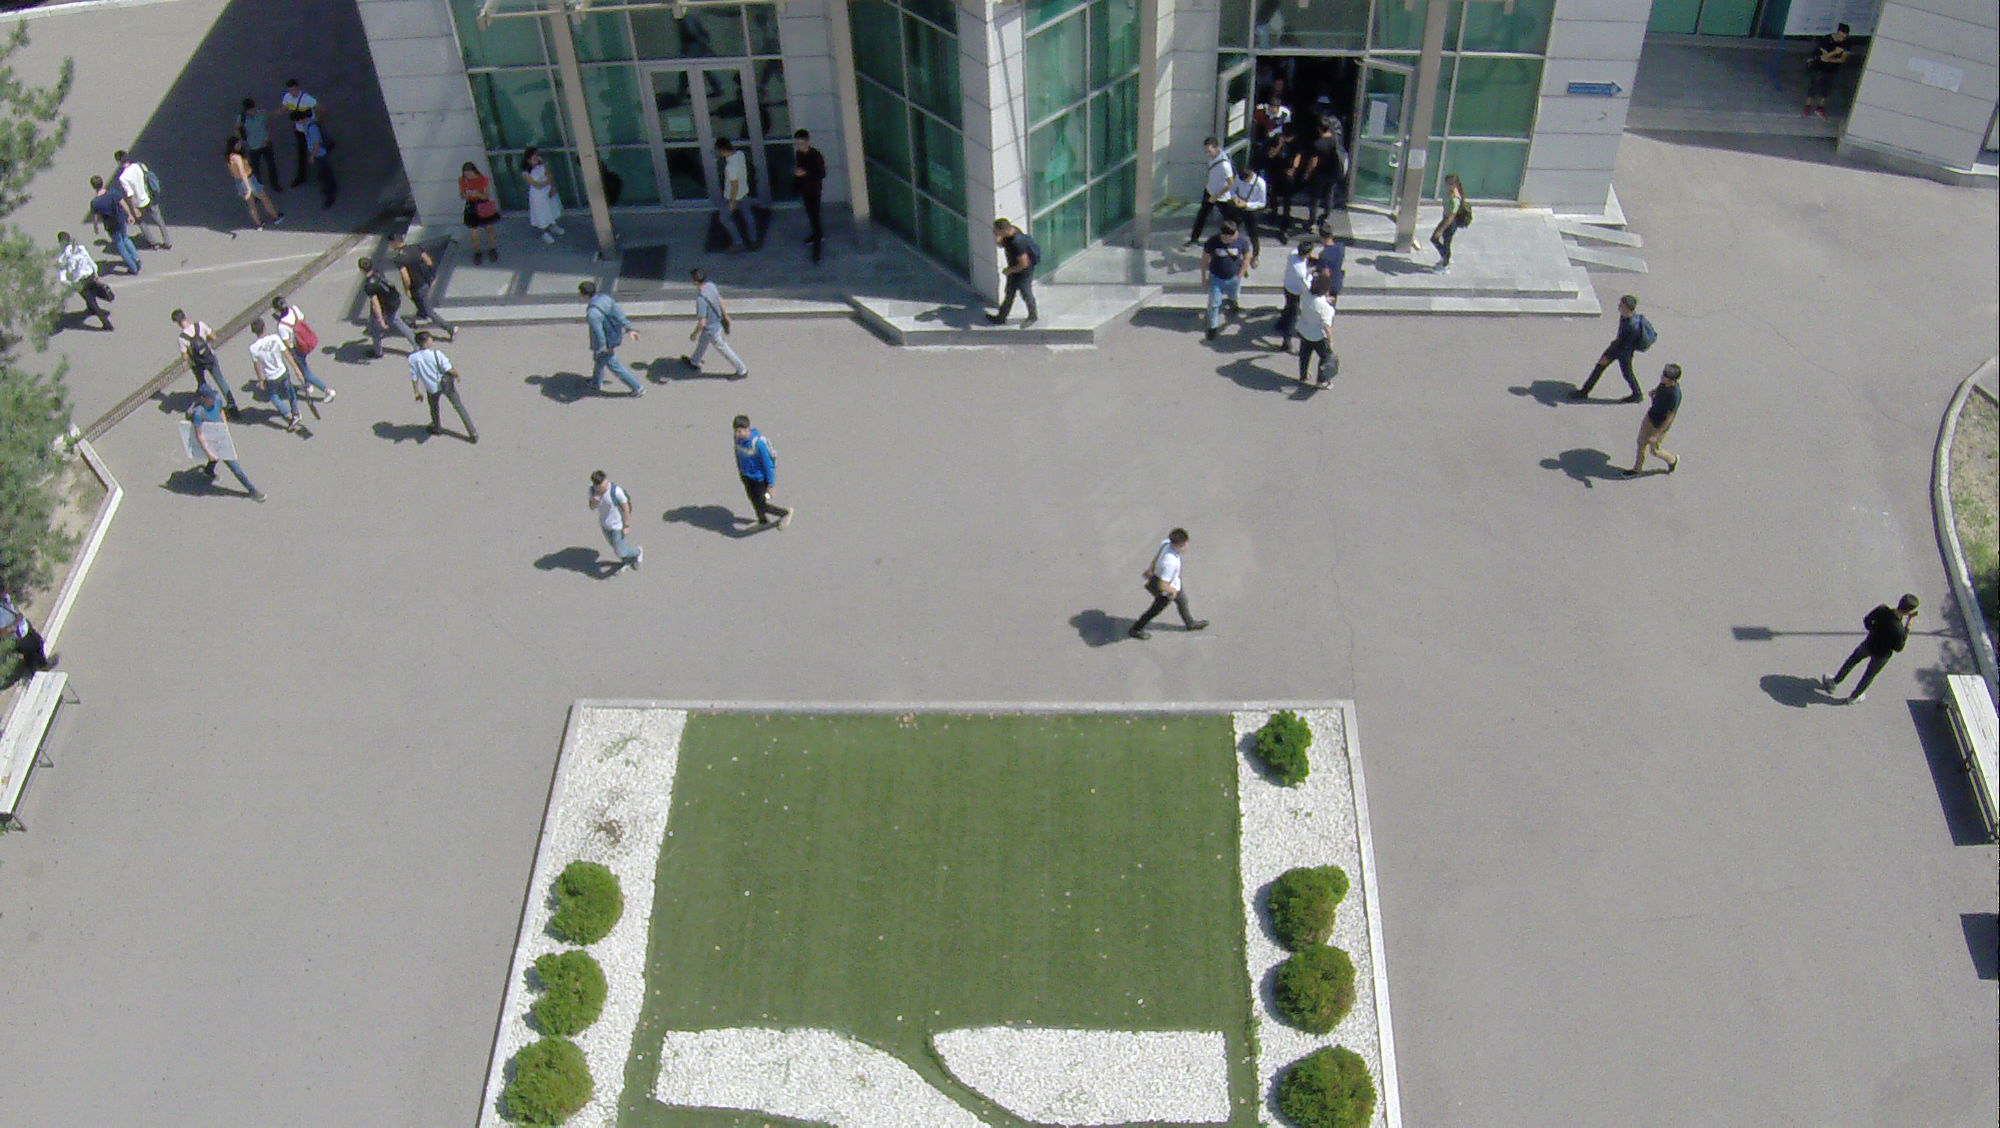person: (166, 384, 267, 500), (1824, 591, 1926, 705), (1123, 524, 1211, 648), (569, 278, 649, 403), (239, 319, 319, 441), (1572, 288, 1654, 402), (731, 410, 800, 545), (392, 226, 464, 351), (676, 264, 752, 383), (405, 331, 481, 447), (1618, 360, 1687, 486), (978, 211, 1040, 340), (353, 258, 424, 368), (272, 296, 342, 406), (1195, 218, 1256, 346), (585, 466, 647, 584), (788, 129, 834, 278), (50, 232, 116, 333), (116, 143, 171, 256), (708, 140, 763, 252), (87, 175, 141, 284), (1294, 269, 1342, 392), (227, 142, 283, 240), (517, 142, 569, 247), (456, 160, 506, 266), (1430, 170, 1476, 280), (1803, 24, 1851, 120), (169, 303, 224, 381), (240, 94, 281, 194), (1190, 133, 1227, 219), (1235, 162, 1266, 219)
